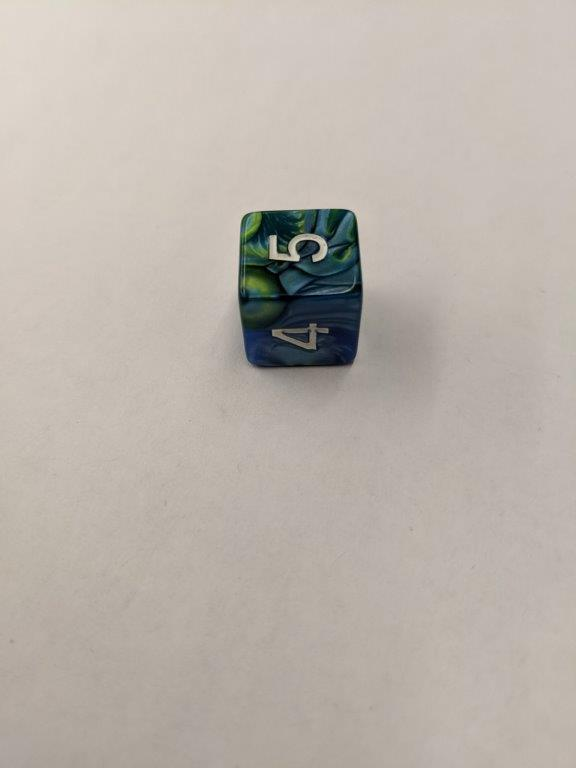d6-5: (234, 203, 364, 367)
